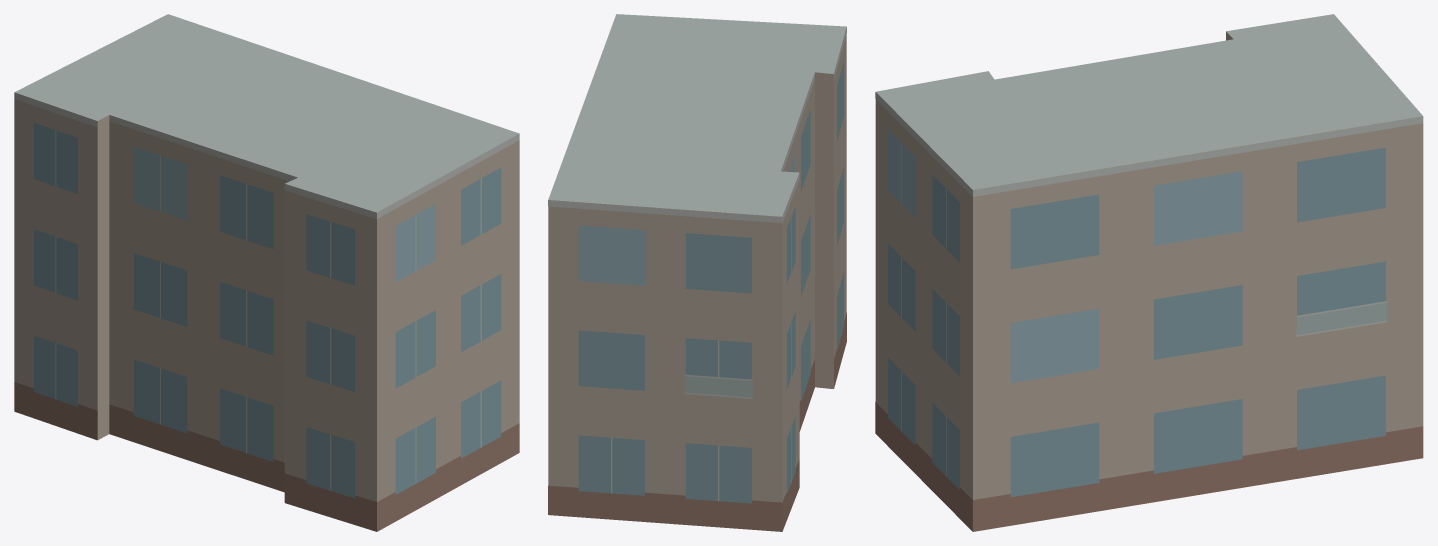
Rendered from survey-upis-33040624.glb.
3 renders of one model, left to right at view 1: azimuth 30°, elevation 25°; view 2: azimuth 150°, elevation 25°; view 3: azimuth 270°, elevation 25°, orthographic. The views are drawn at different scales.
Visible parts, largest first — view 1: survey-upis-33040624.tmp; view 2: survey-upis-33040624.tmp; view 3: survey-upis-33040624.tmp.
Boxes of the visible parts, x1,y1,x2,y2 form: survey-upis-33040624.tmp: (14, 14, 519, 531); survey-upis-33040624.tmp: (548, 14, 846, 531); survey-upis-33040624.tmp: (875, 14, 1423, 531).
Size of the model in its own units: 13.2 by 11.95 by 17.36.
